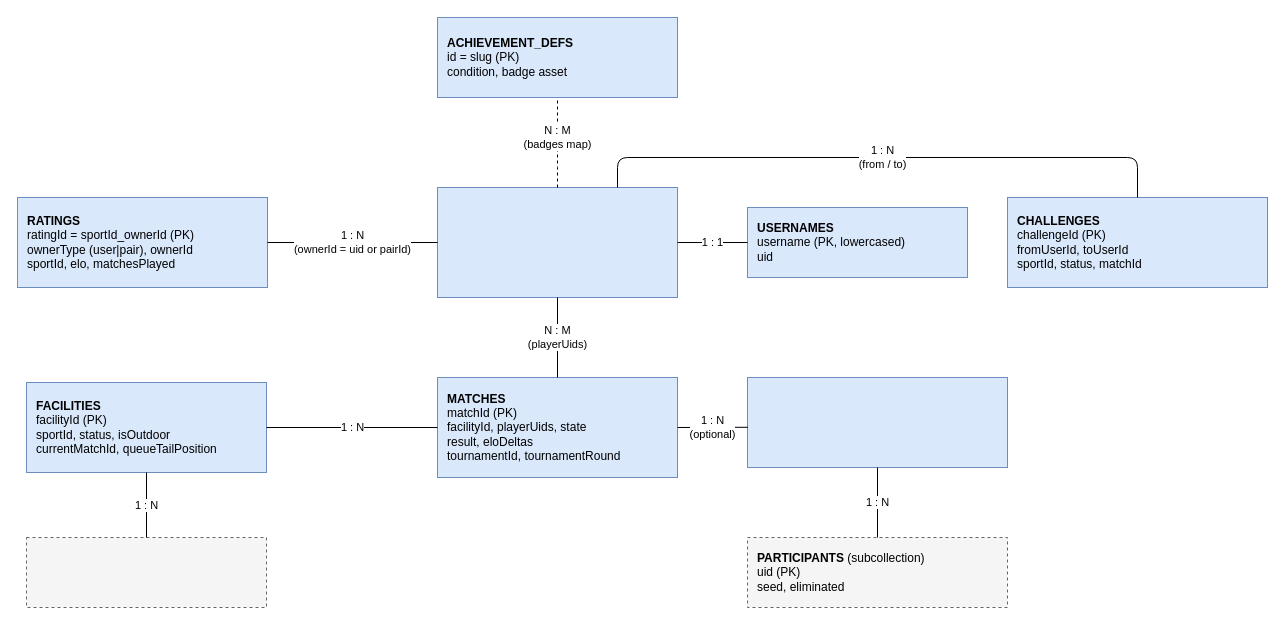
Some shapes in this 1285 by 625 pixel diagram are drawn without their labels. Each missing label, with the box of its shape:
QUEUE (subcollection) uid (PK) position, joinedAt: (26, 536, 266, 608)
TOURNAMENTS tournamentId (PK) sportId, facilityId, status bracket, eloMultiplier: (746, 376, 1008, 468)
USERS uid (PK) username, degreeProgram friendUids, badges disputeCount: (436, 186, 678, 298)
